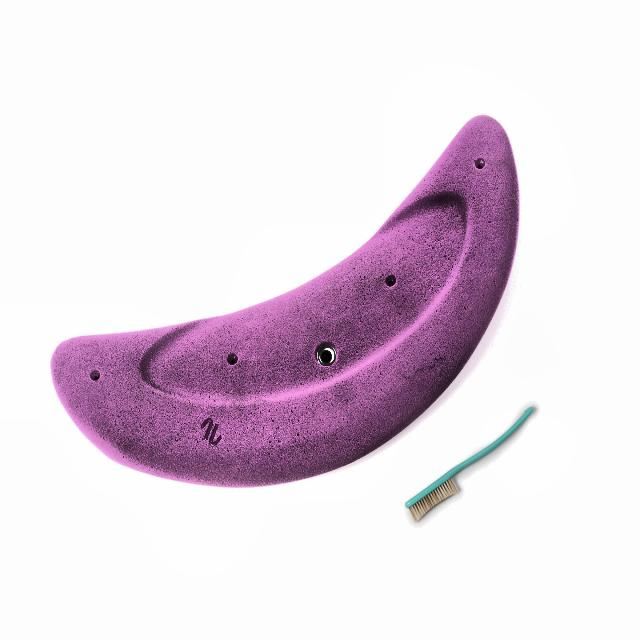Hold: (43, 84, 536, 494)
